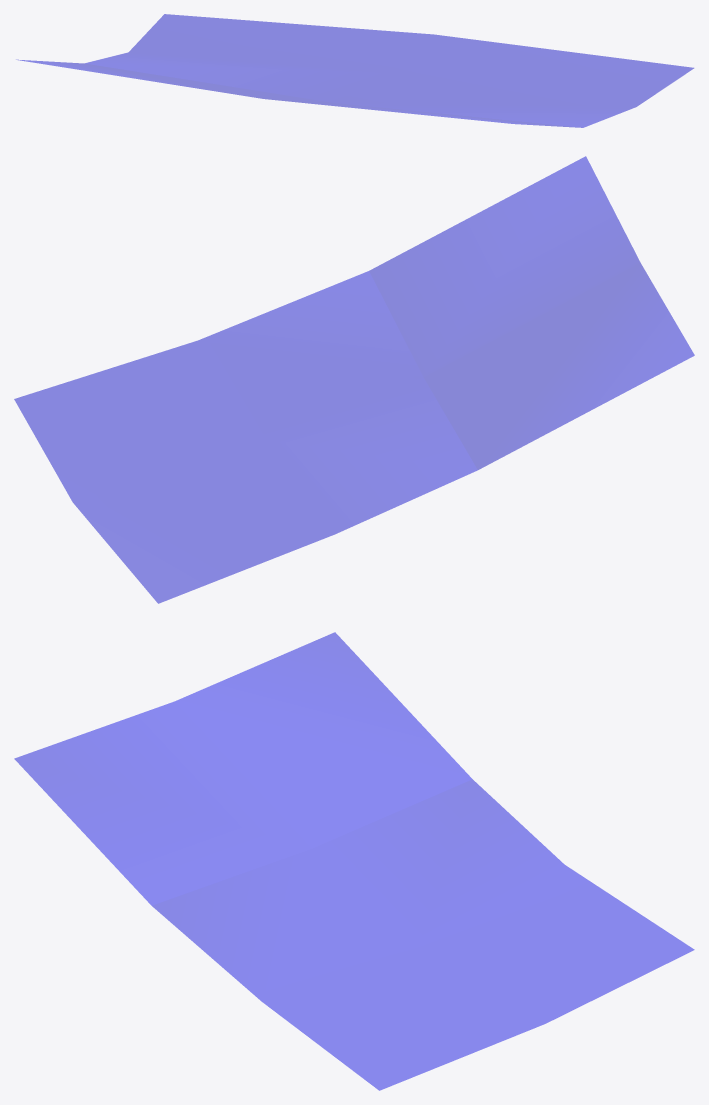
File: track_la_coll_road_27.fbx
3 views of the same model, one above another, from view 1: azimuth 30°, elevation 25°; view 2: azimuth 150°, elevation 25°; view 3: azimuth 270°, elevation 25° (orthographic). The views are drawn at different scales.
Parts seen in each view (by area): view 1: track_la_coll_road_27; view 2: track_la_coll_road_27; view 3: track_la_coll_road_27.
Boxes of the visible parts, x1,y1,x2,y2 form: track_la_coll_road_27: (16, 14, 693, 127); track_la_coll_road_27: (14, 156, 694, 603); track_la_coll_road_27: (14, 632, 694, 1090).
Bounding box in the file's own units: 41.66 × 11.27 × 41.29.
